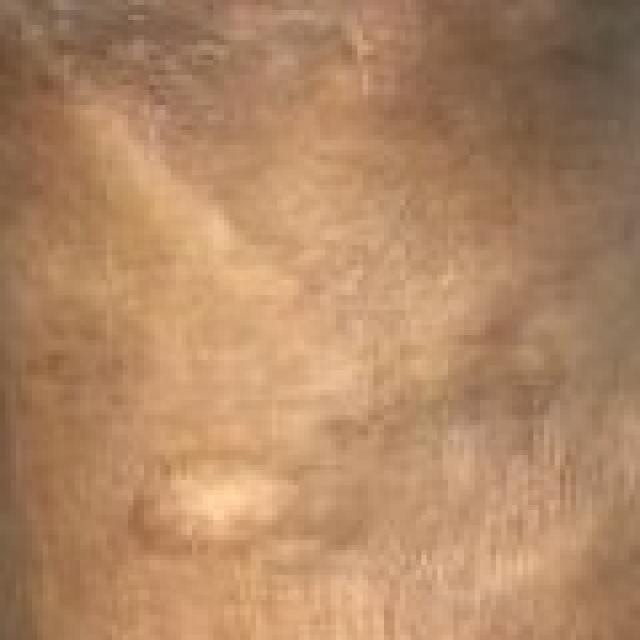wound: (84, 428, 379, 591)
